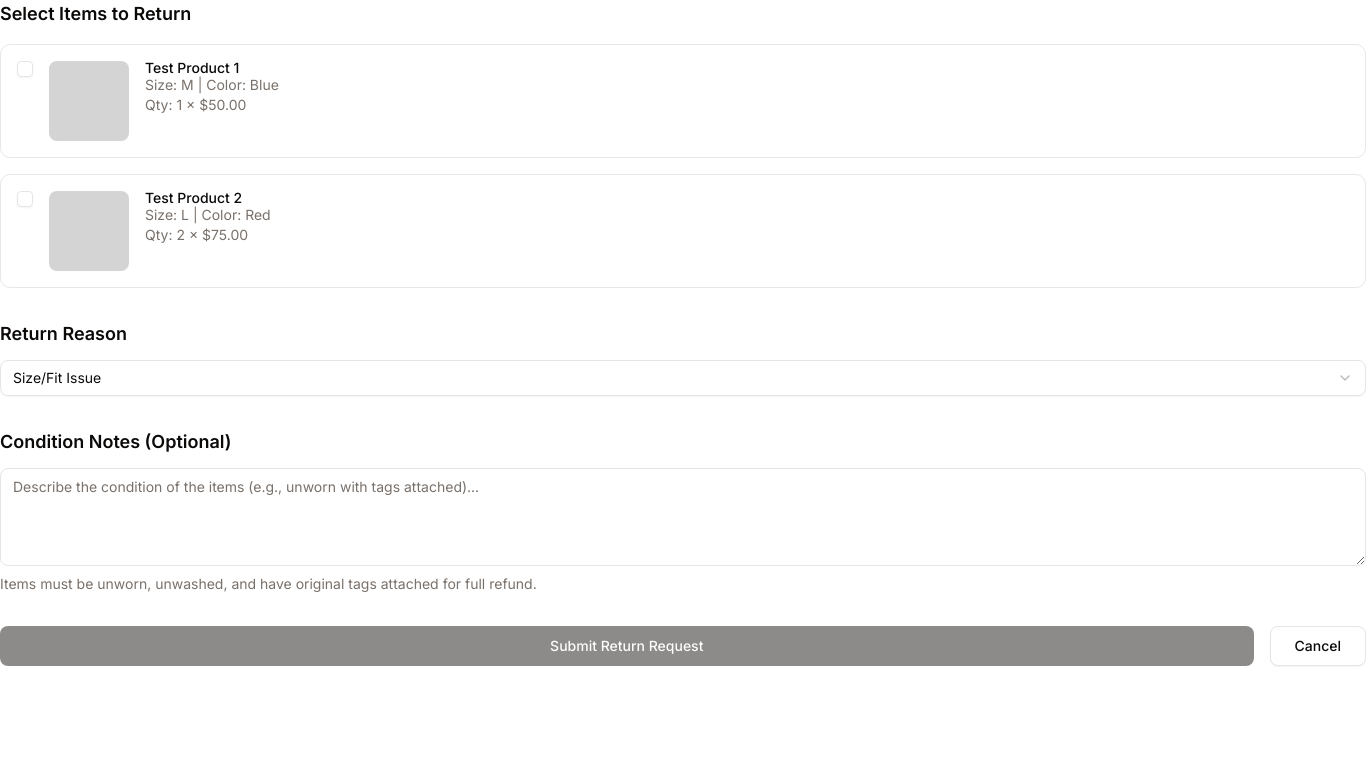
Test: ReturnRequestForm › calculates correct refund for multiple items
# Select both items
Click the checkbox next to "Test Product 1".
click(25, 69)  # box [17,61,33,77]
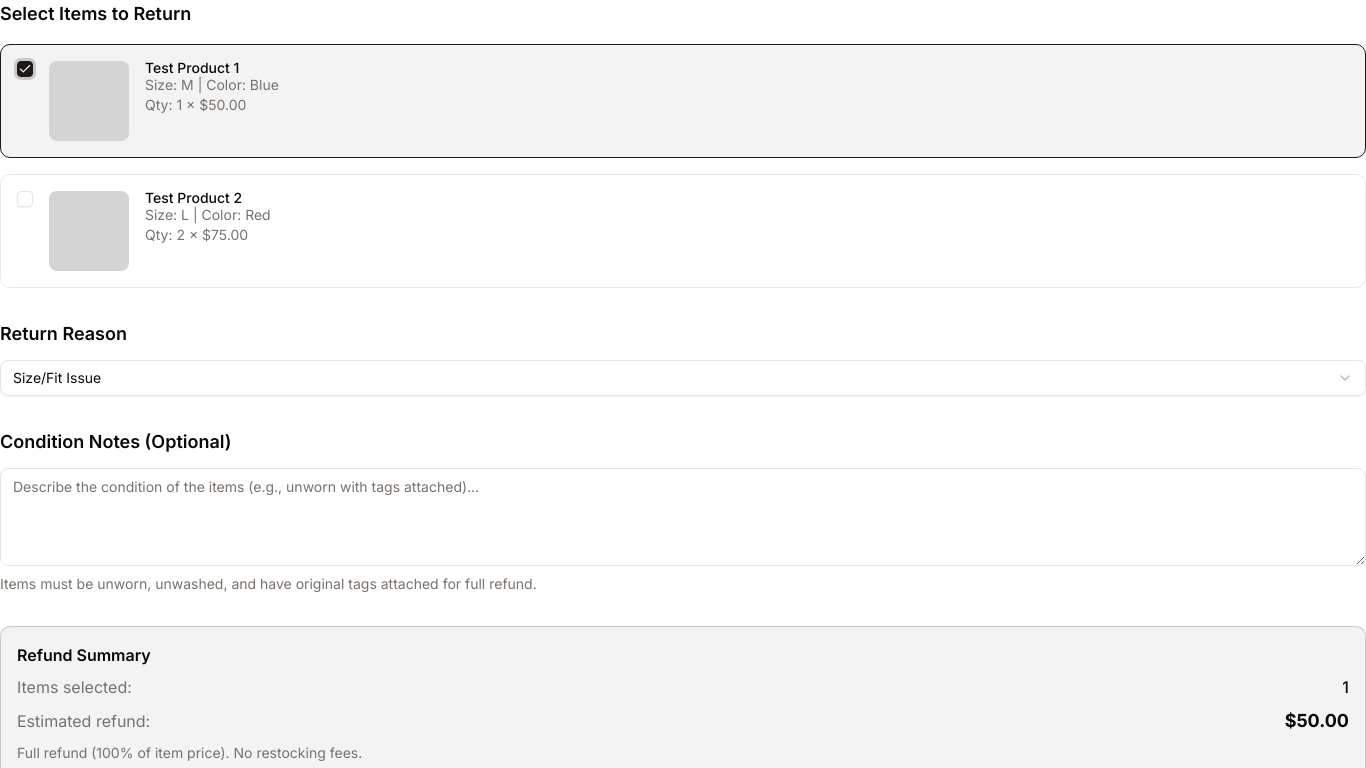
Click the checkbox next to "Test Product 2".
click(25, 199)  # box [17,191,33,207]
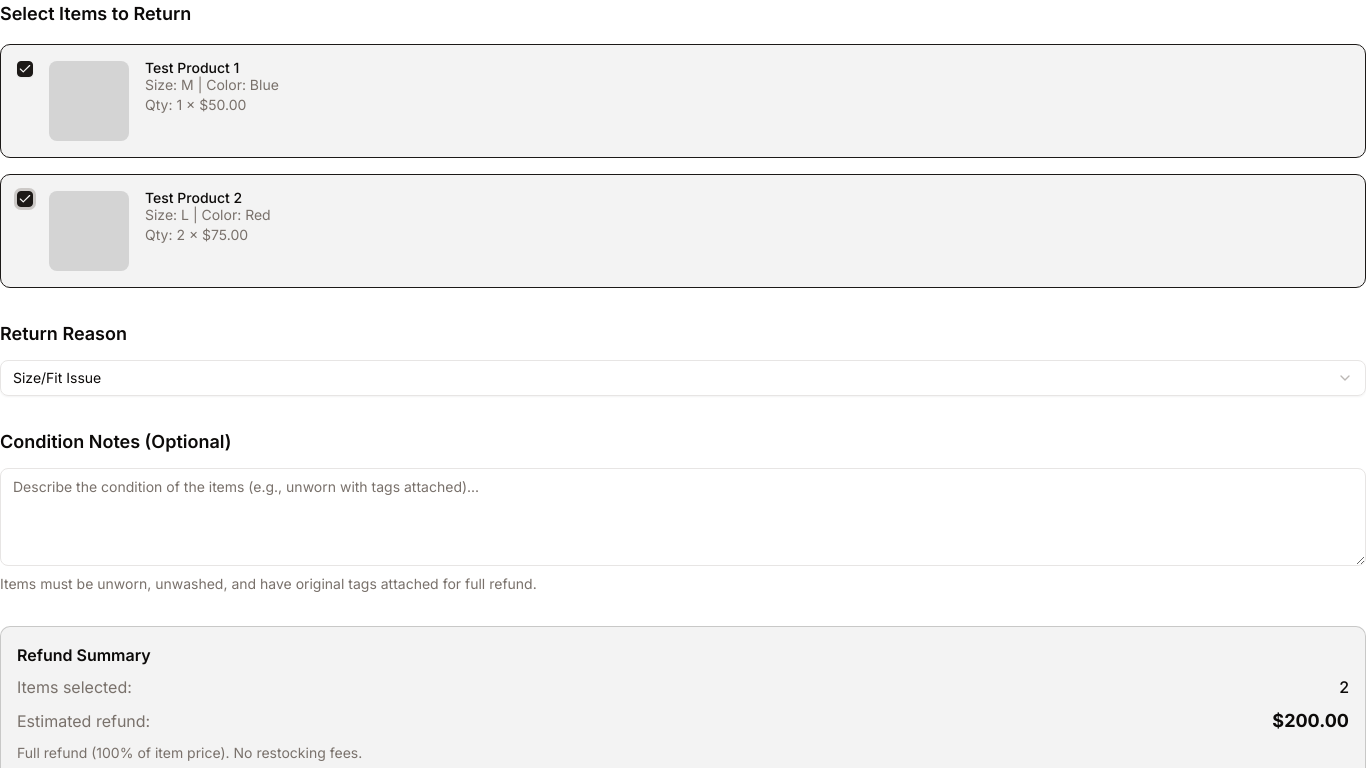
Expected: the text "Items selected:" is shown, [17,675,132,699]
Expected: the text "2" is shown, [1339,675,1349,699]
Expected: the text "$200.00" is shown, [1272,707,1349,735]
